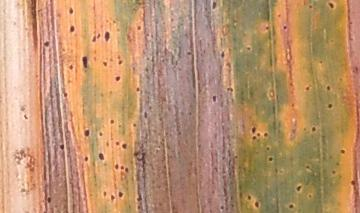tarspot: (77, 54, 91, 71), (88, 31, 103, 45), (261, 154, 280, 165), (100, 27, 113, 43), (207, 91, 220, 107), (39, 37, 53, 50), (79, 127, 93, 140), (93, 150, 107, 163), (215, 47, 229, 60), (292, 180, 304, 195), (323, 2, 341, 12), (324, 100, 337, 113), (66, 21, 78, 35), (54, 140, 67, 152), (43, 193, 56, 205), (111, 73, 124, 85), (216, 201, 230, 212), (250, 122, 259, 138), (209, 1, 221, 13), (224, 84, 236, 96), (284, 200, 297, 211), (20, 112, 33, 123), (133, 193, 146, 204), (120, 138, 130, 152), (105, 116, 117, 127), (252, 199, 263, 211), (245, 192, 256, 204), (322, 82, 334, 93), (100, 189, 111, 201), (132, 84, 144, 95), (279, 22, 292, 32), (110, 160, 120, 173), (349, 176, 358, 190), (96, 129, 107, 140), (301, 82, 312, 93), (259, 130, 270, 141), (243, 43, 254, 54), (98, 59, 110, 69), (337, 144, 347, 156), (230, 152, 242, 162), (129, 120, 141, 130), (328, 168, 341, 177), (66, 5, 76, 16), (132, 22, 143, 32), (112, 137, 122, 148), (309, 123, 318, 135), (262, 22, 271, 34), (79, 155, 92, 163), (66, 61, 76, 71), (141, 109, 151, 119), (304, 162, 314, 172), (60, 89, 71, 98), (108, 193, 117, 204), (116, 56, 125, 67), (117, 187, 124, 201), (317, 56, 325, 68), (305, 191, 314, 201), (184, 48, 192, 59), (124, 164, 130, 176), (305, 2, 314, 10), (132, 150, 141, 158), (119, 162, 124, 174)
